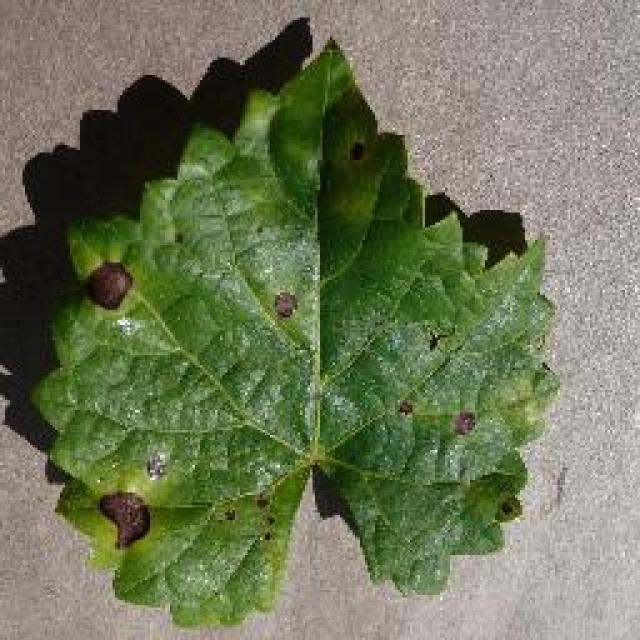Grape___Black_rot: (18, 28, 567, 634)
